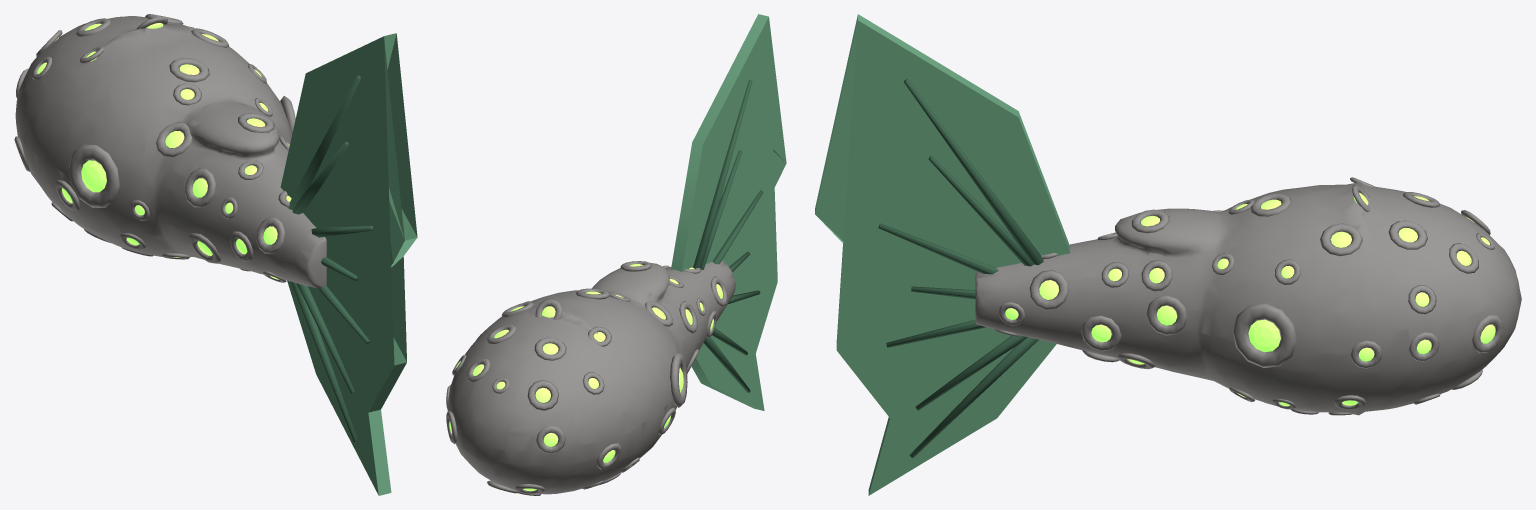
The model's file is tail.glb.
The picture shows the model from 3 angles, left to right: view 1: azimuth 30°, elevation 25°; view 2: azimuth 150°, elevation 25°; view 3: azimuth 270°, elevation 25°; orthographic projection. The views are drawn at different scales.
Parts seen in each view (by area): view 1: Tail, TailFin, RimsT, FinLines, PoresT, HoleLt; view 2: Tail, TailFin, RimsT, FinLines, PoresT; view 3: Tail, TailFin, RimsT, FinLines, PoresT, HoleRt.
Part boxes in pixels (x1=…): Tail: x1=15, y1=16, x2=326, y2=288; TailFin: x1=280, y1=33, x2=417, y2=495; RimsT: x1=14, y1=14, x2=295, y2=282; FinLines: x1=288, y1=75, x2=373, y2=442; PoresT: x1=20, y1=23, x2=291, y2=279; HoleLt: x1=81, y1=160, x2=106, y2=192; Tail: x1=447, y1=260, x2=735, y2=494; TailFin: x1=671, y1=14, x2=786, y2=410; RimsT: x1=446, y1=261, x2=727, y2=495; FinLines: x1=693, y1=79, x2=763, y2=392; PoresT: x1=449, y1=264, x2=722, y2=491; Tail: x1=975, y1=182, x2=1521, y2=415; TailFin: x1=815, y1=14, x2=1070, y2=495; RimsT: x1=994, y1=177, x2=1503, y2=415; FinLines: x1=878, y1=79, x2=1043, y2=457; PoresT: x1=1005, y1=192, x2=1495, y2=406; HoleRt: x1=1248, y1=319, x2=1280, y2=352.
Bounding box in the file's own units: 0.6102 × 1.23 × 1.65.
